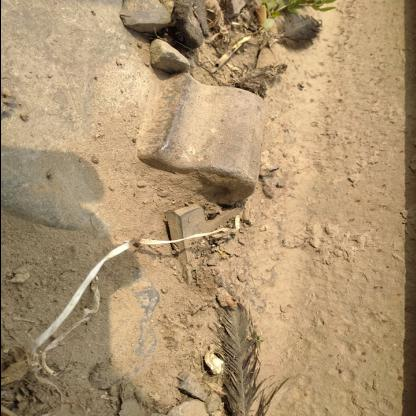Defective: (132, 50, 296, 226)
